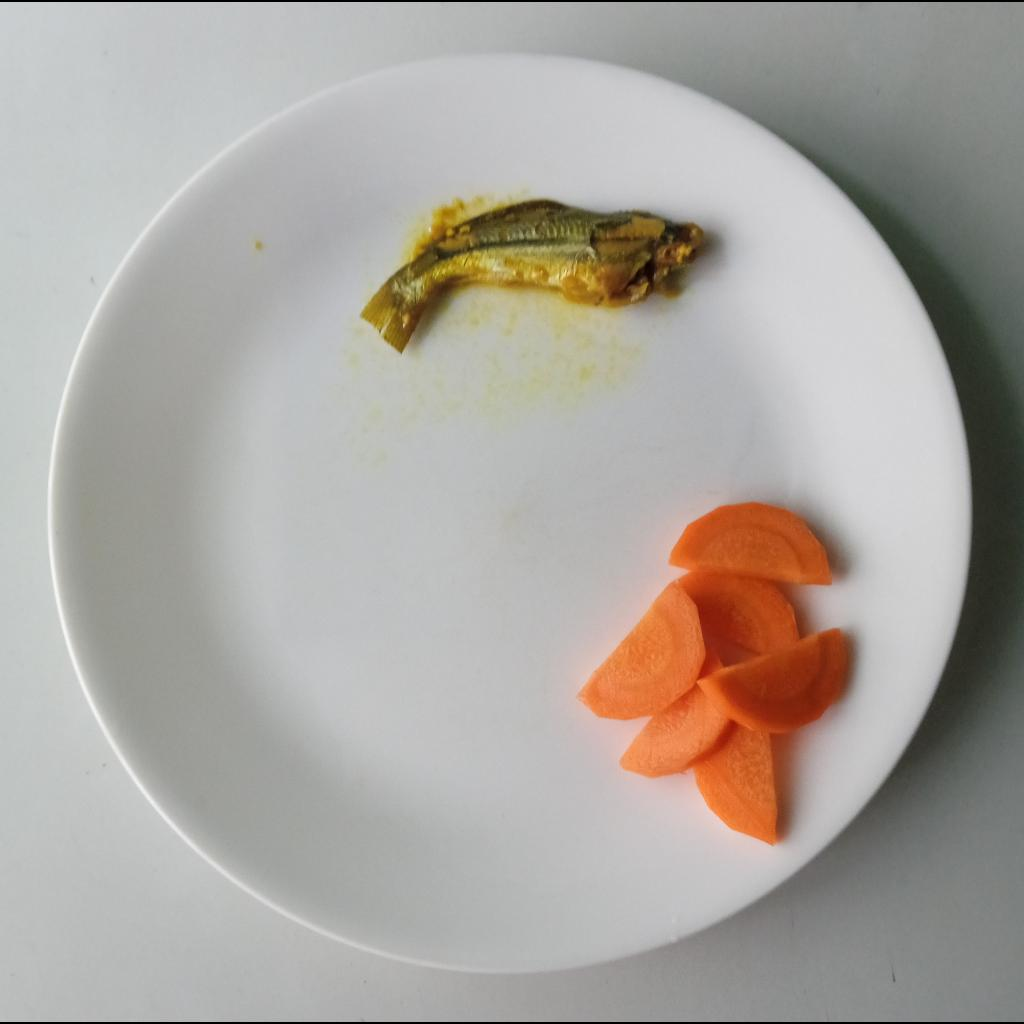carrot: (577, 503, 853, 848)
fish: (360, 198, 701, 357)
